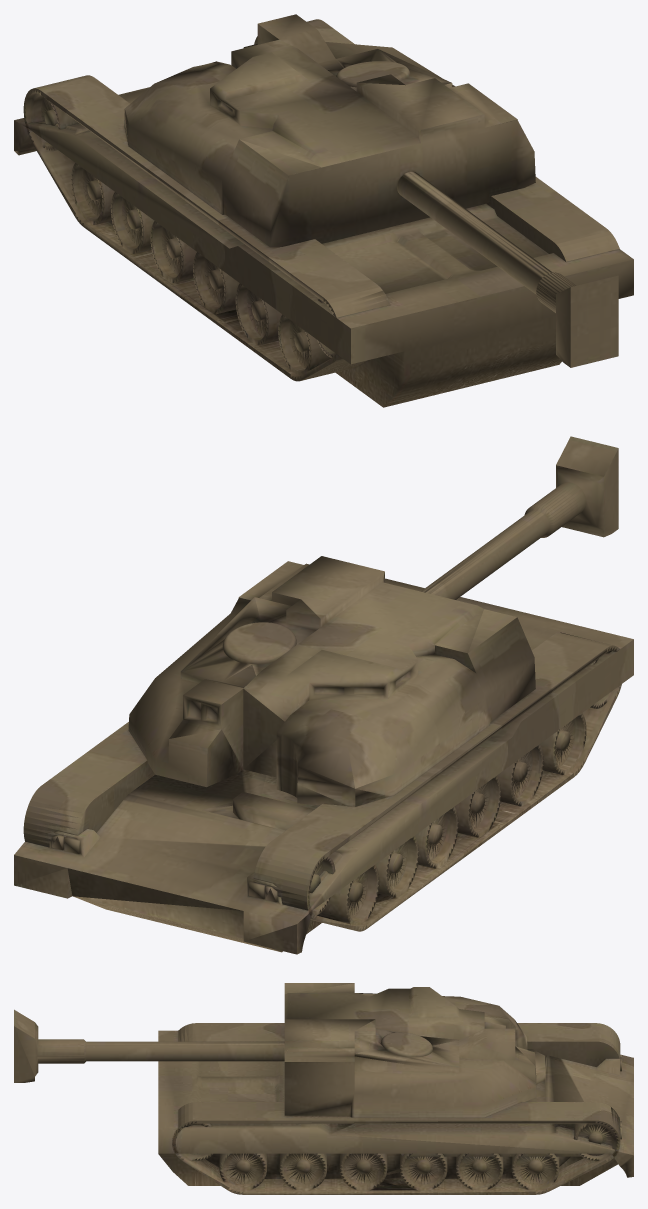
The model's file is mbt_leclerc.glb.
3 renders of one model, top to bottom at view 1: azimuth 30°, elevation 25°; view 2: azimuth 150°, elevation 25°; view 3: azimuth 270°, elevation 25°, orthographic. The views are drawn at different scales.
Visible parts, largest first — view 1: Leclerc_Bottom-1; view 2: Leclerc_Bottom-1; view 3: Leclerc_Bottom-1.
Part boxes in pixels (x1,y1,x2,y2): Leclerc_Bottom-1: [14, 14, 633, 407]; Leclerc_Bottom-1: [14, 436, 633, 954]; Leclerc_Bottom-1: [14, 983, 633, 1194].
Size of the model in its own units: 3.67 by 2.5 by 9.87.
Materials: 1 (1 with a texture image).
